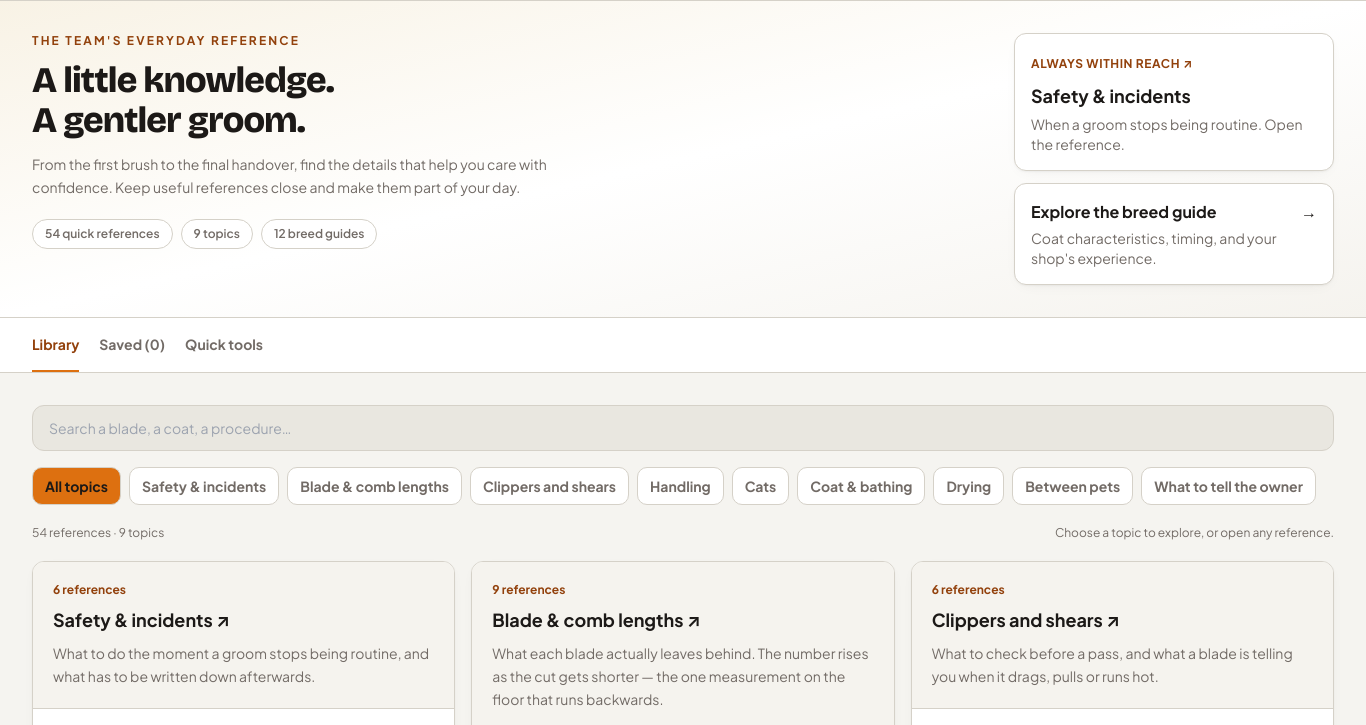
Test: resource hub › supports keyboard tabs and calculates a total-volume dilution
Press End in the tab "Library", box [32, 318, 79, 372]
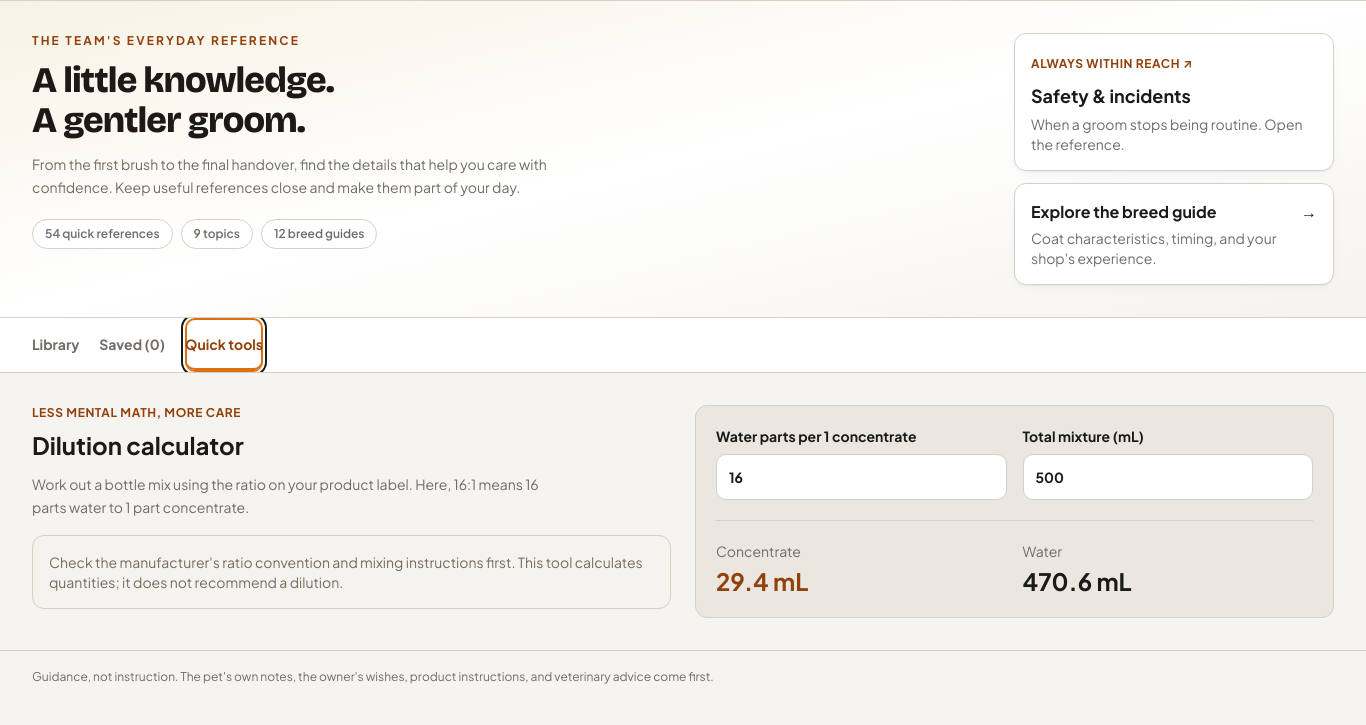
Replace the text in the number field labelled "Water parts per 1 concentrate" with "9" at [861, 477], box [716, 454, 1006, 500]
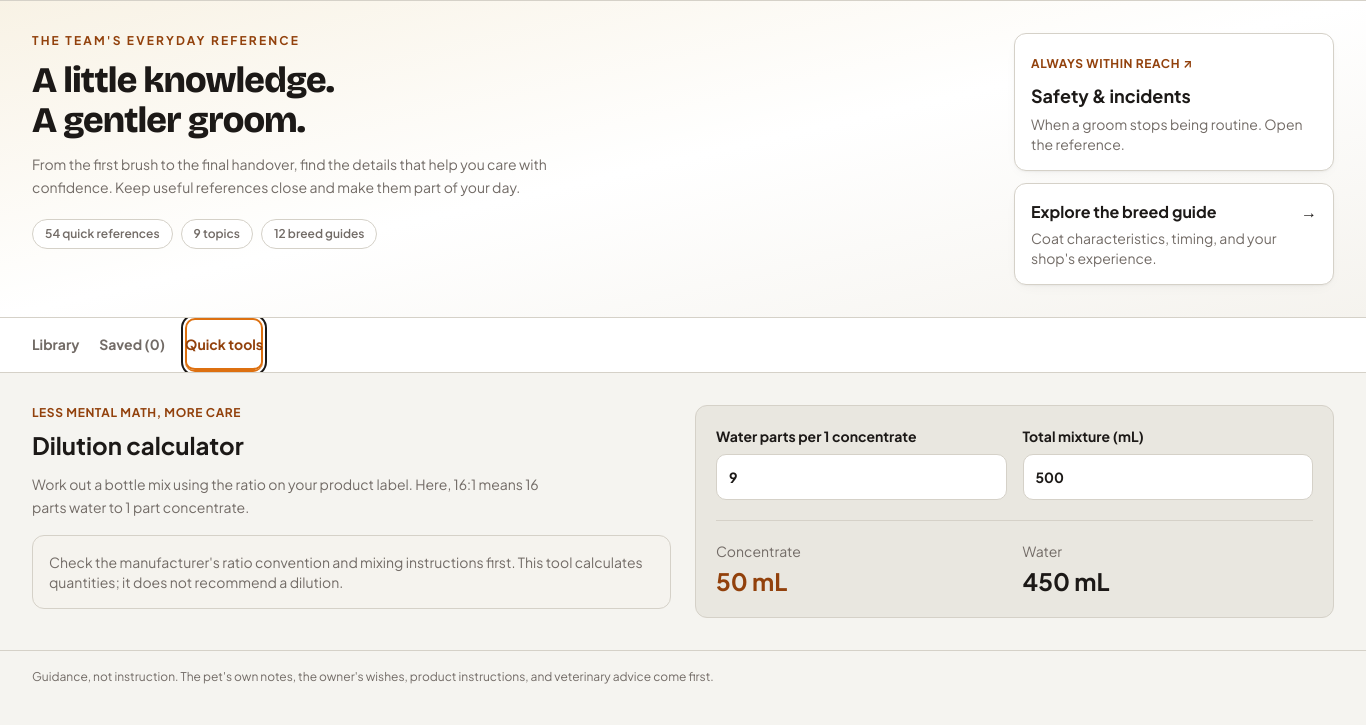
Expected: the text "50 mL" is shown, [716, 566, 787, 596]
Expected: the text "450 mL" is shown, [1022, 566, 1109, 596]
Clear the number field labelled "Total mixture (mL)" at [1168, 477], box [1022, 454, 1313, 500]
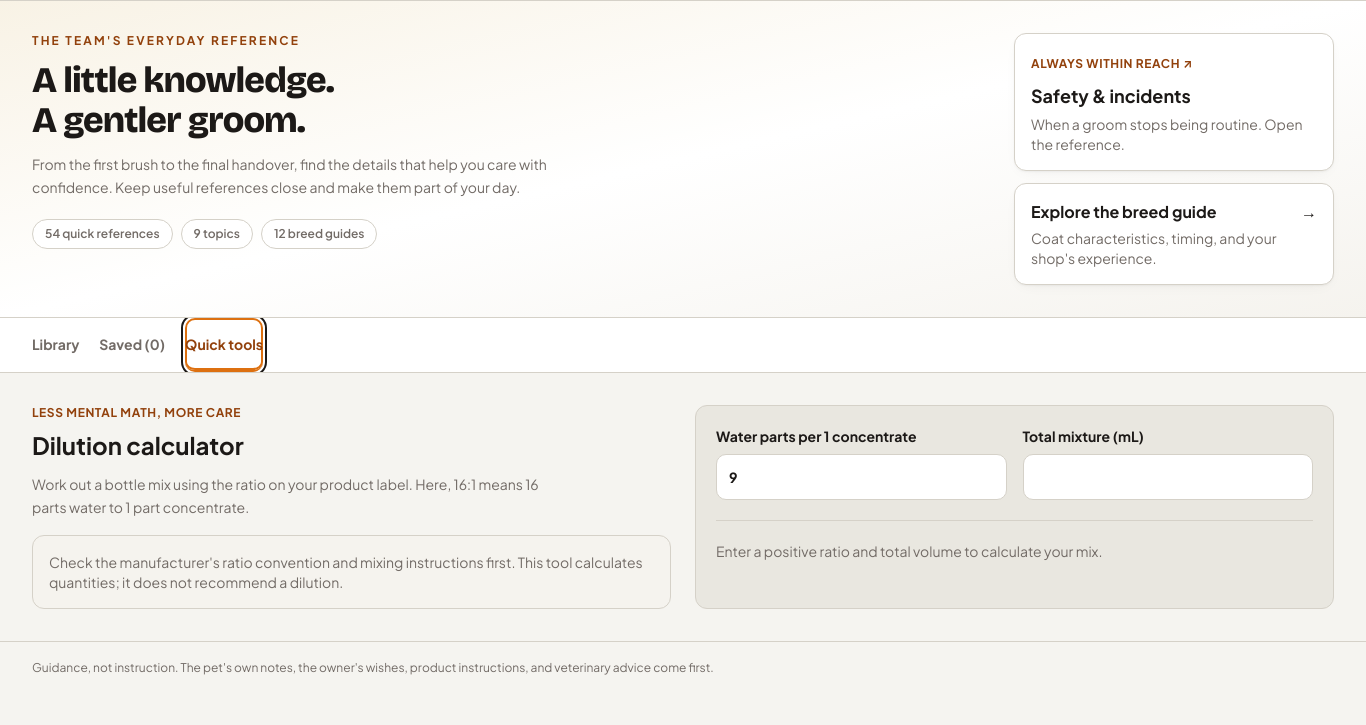
Expected: the text "Enter a positive ratio and total volume to calculate your mix." is shown, [716, 542, 1102, 560]
